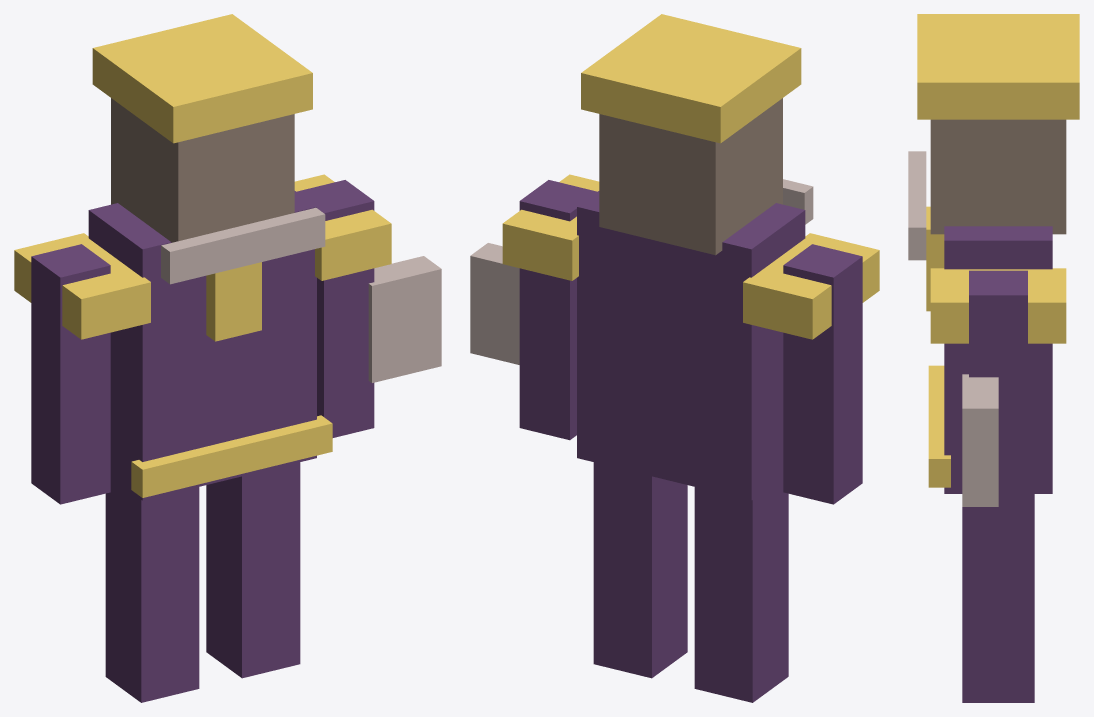
Rendered from 08_maelis_skyharrow_keeper_near_vendor.glb.
The picture shows the model from 3 angles, left to right: view 1: azimuth 30°, elevation 25°; view 2: azimuth 150°, elevation 25°; view 3: azimuth 270°, elevation 25°; orthographic projection.
Parts seen in each view (by area): view 1: Maelis Skyharrow, Keeper near Vendor; view 2: Maelis Skyharrow, Keeper near Vendor; view 3: Maelis Skyharrow, Keeper near Vendor.
Part boxes in pixels (left/top/right/bottom): Maelis Skyharrow, Keeper near Vendor: left=14, top=14, right=441, bottom=702; Maelis Skyharrow, Keeper near Vendor: left=470, top=14, right=879, bottom=702; Maelis Skyharrow, Keeper near Vendor: left=908, top=14, right=1079, bottom=702.
Bounding box in the file's own units: 0.9721 × 1.5 × 0.3789.
